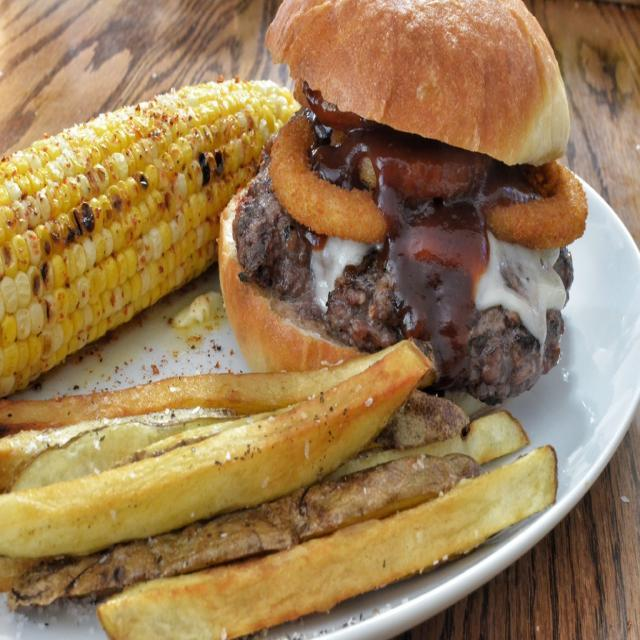Hamburger: (218, 0, 588, 416)
